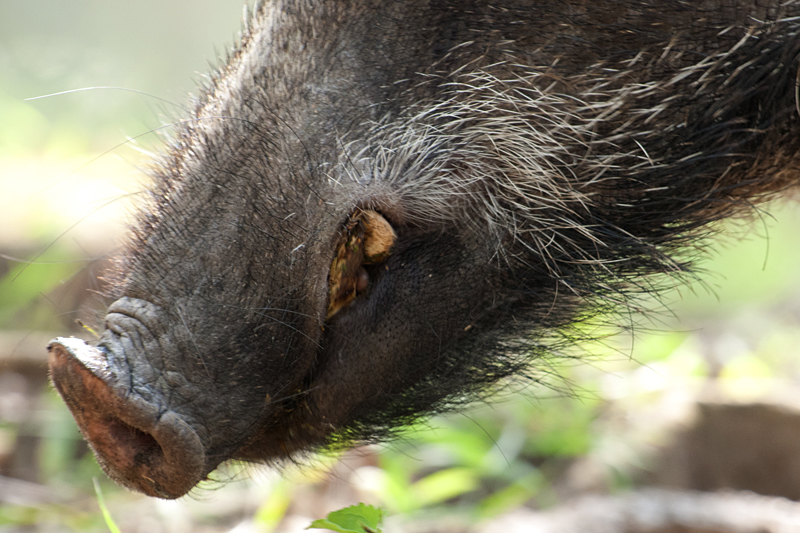wild boar: (45, 1, 797, 507)
